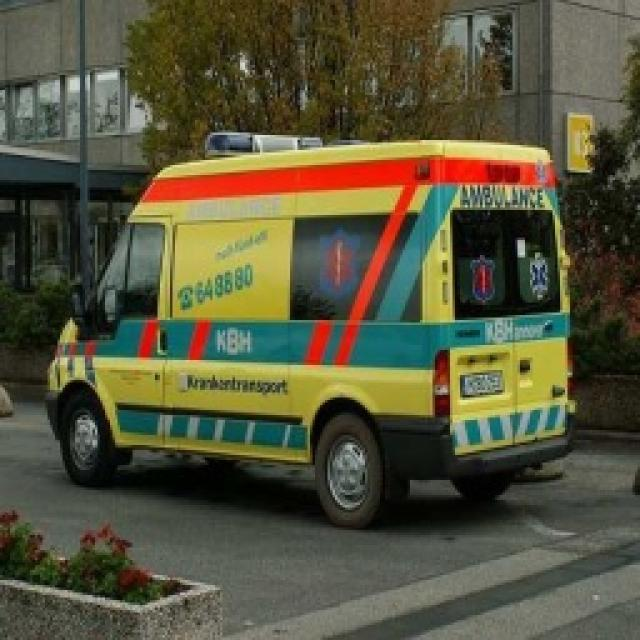emergency-vehicle: (33, 91, 584, 512)
